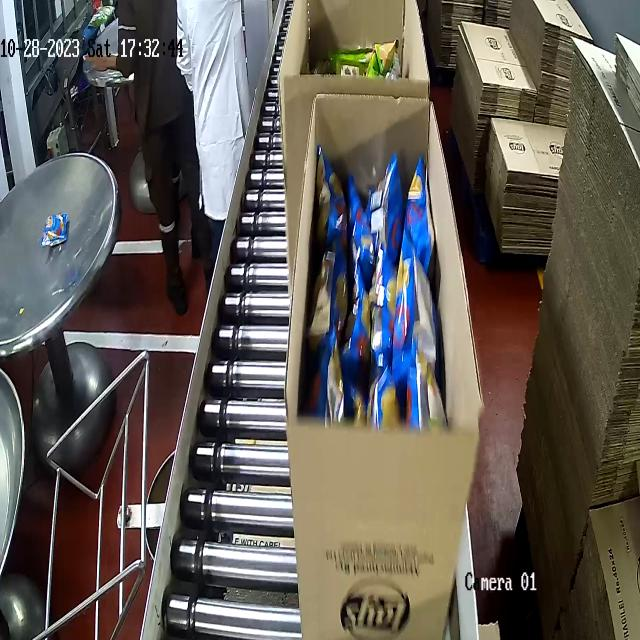PAPRIKA: (306, 156, 453, 434)
